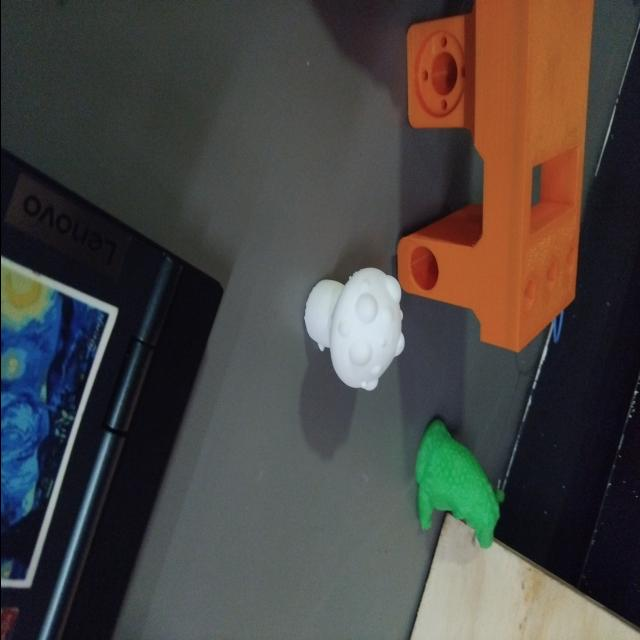Hongo: (296, 255, 412, 394)
